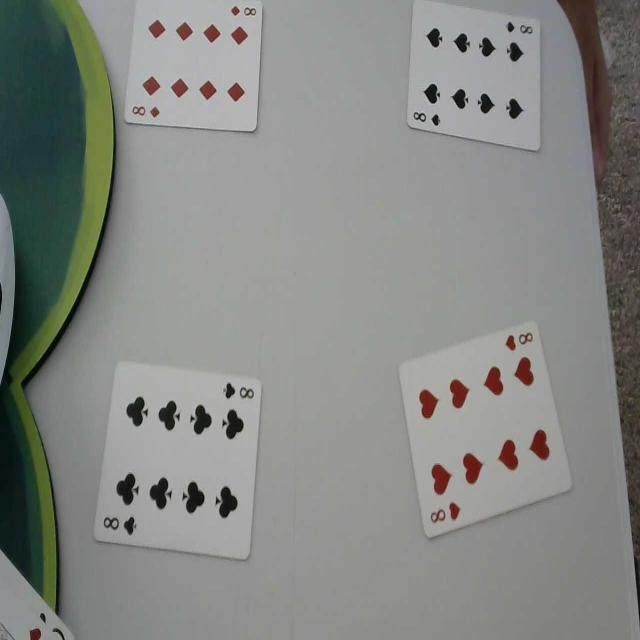8C: (221, 376, 257, 407), (102, 513, 136, 538)
8D: (130, 102, 162, 122), (230, 2, 258, 19)
8H: (428, 500, 463, 525), (506, 327, 532, 353)
8S: (412, 108, 442, 129), (504, 16, 534, 37)
